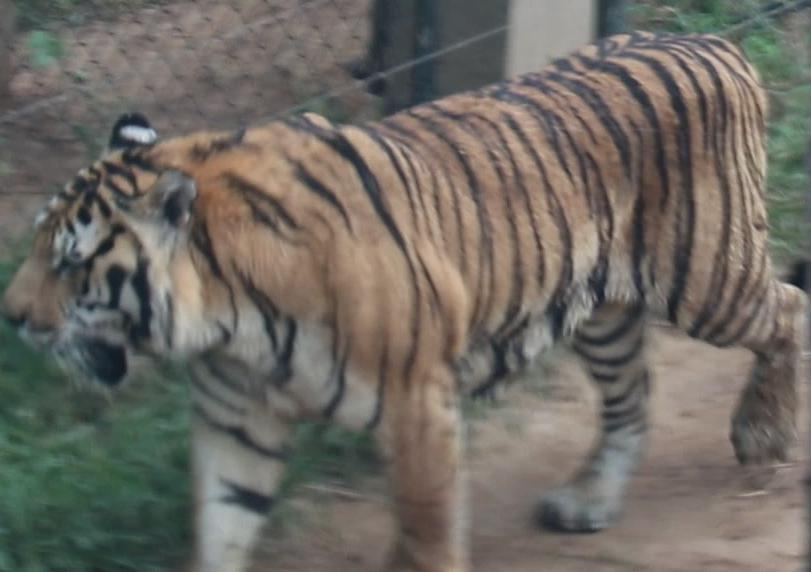tiger: (6, 32, 805, 571)
